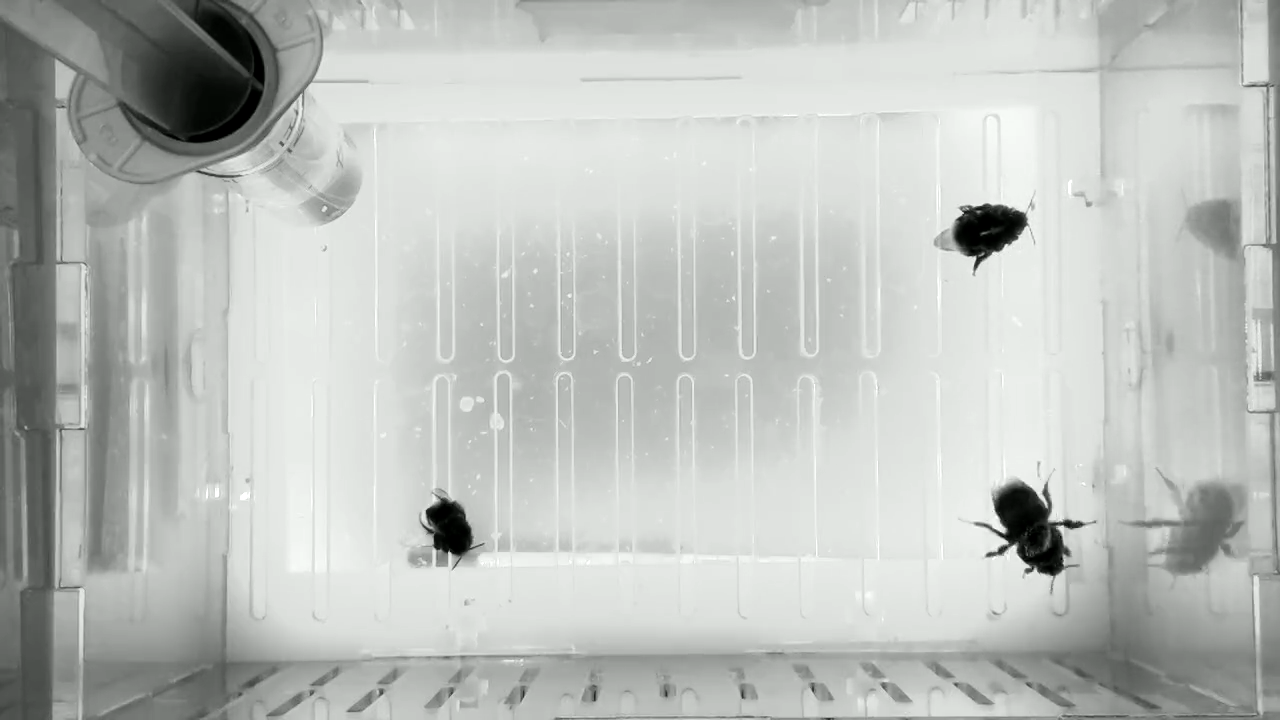bee_alive: (954, 457, 1102, 599)
bee_dead: (925, 189, 1044, 278), (403, 484, 488, 580)
feeder: (225, 84, 366, 233)
